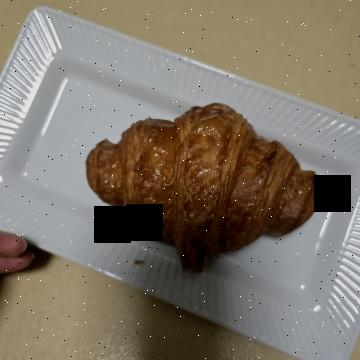croissant: (91, 37, 291, 293)
